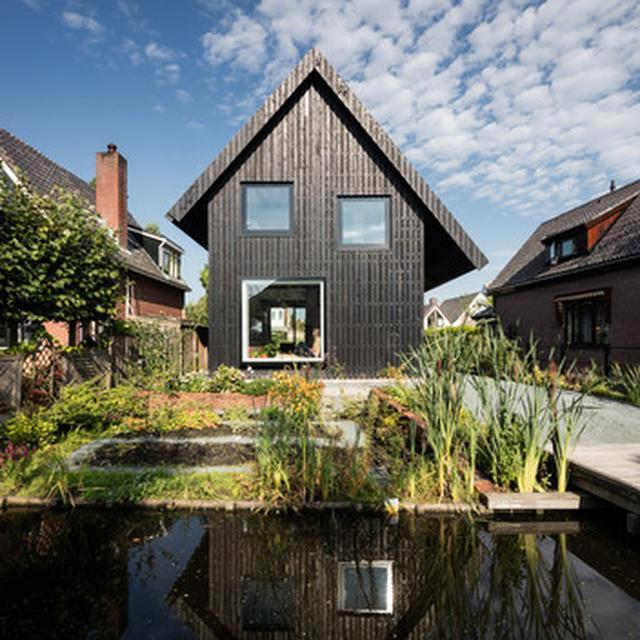building: (159, 46, 481, 416), (0, 122, 198, 390), (488, 178, 640, 404)
